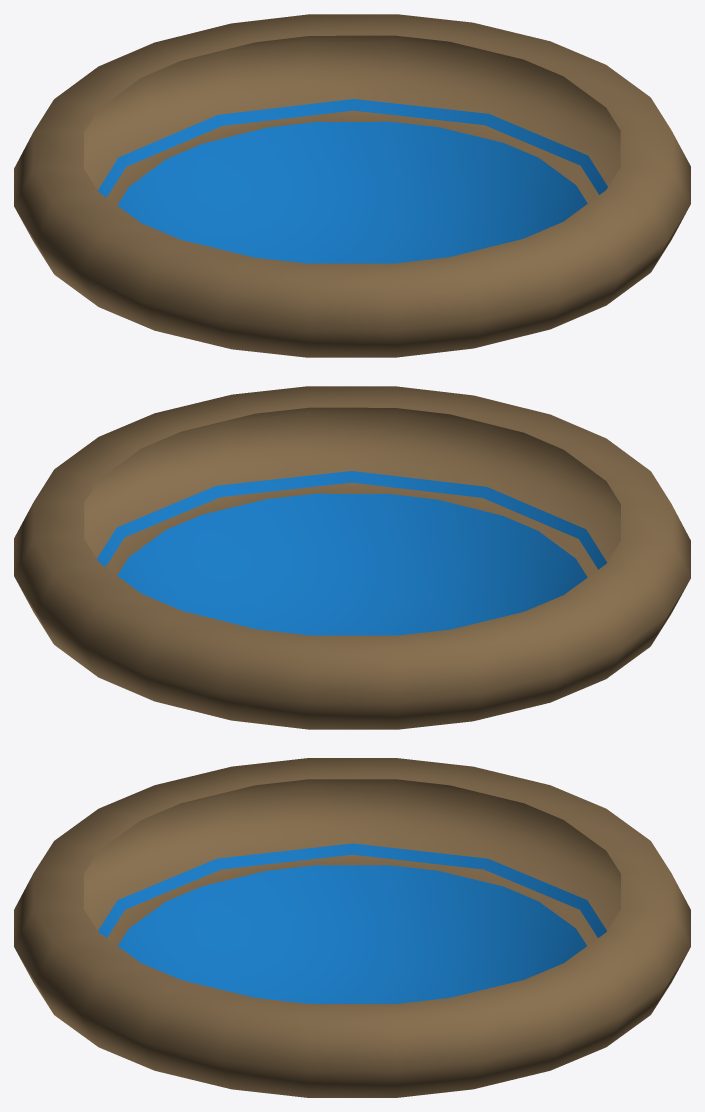
File: vehicle_reactor_A.FBX
3 renders of one model, top to bottom at view 1: azimuth 30°, elevation 25°; view 2: azimuth 150°, elevation 25°; view 3: azimuth 270°, elevation 25°, orthographic.
Parts seen in each view (by area): view 1: vehicle_reactor; view 2: vehicle_reactor; view 3: vehicle_reactor.
Part boxes in pixels (bbox=[...]): vehicle_reactor: bbox=[14, 14, 690, 357]; vehicle_reactor: bbox=[14, 386, 690, 729]; vehicle_reactor: bbox=[14, 758, 690, 1097].
Size of the model in its own units: 1.61 by 0.431 by 1.61.
